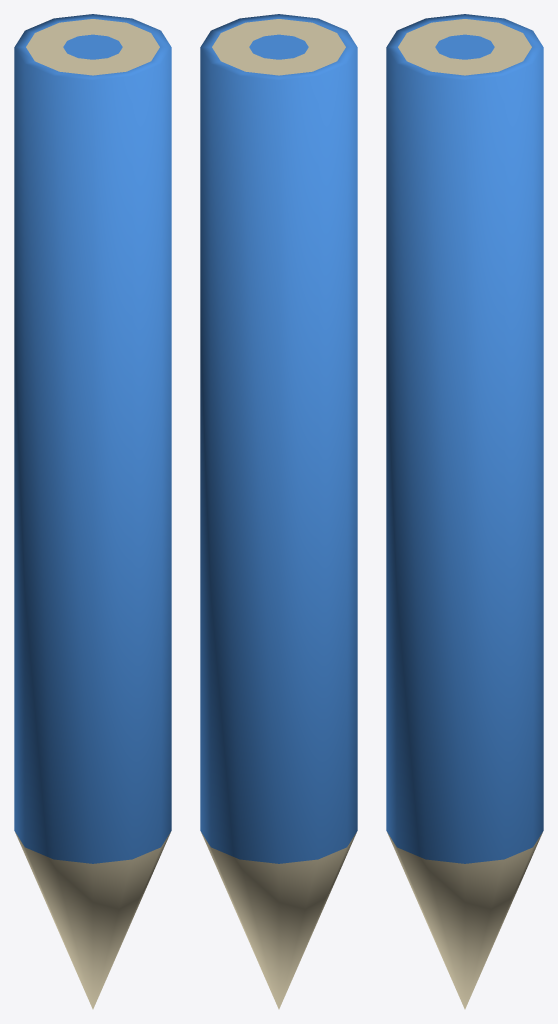
File: Lapis5.fbx
The picture shows the model from 3 angles, left to right: view 1: azimuth 30°, elevation 25°; view 2: azimuth 150°, elevation 25°; view 3: azimuth 270°, elevation 25°; orthographic projection.
Parts seen in each view (by area): view 1: Lapis; view 2: Lapis; view 3: Lapis.
Boxes of the visible parts, x1,y1,x2,y2 form: Lapis: (14,14,171,1009); Lapis: (200,14,357,1009); Lapis: (386,14,543,1009).
Size of the model in its own units: 76.18 by 515 by 76.18.
Materials: 1 (1 with a texture image).
